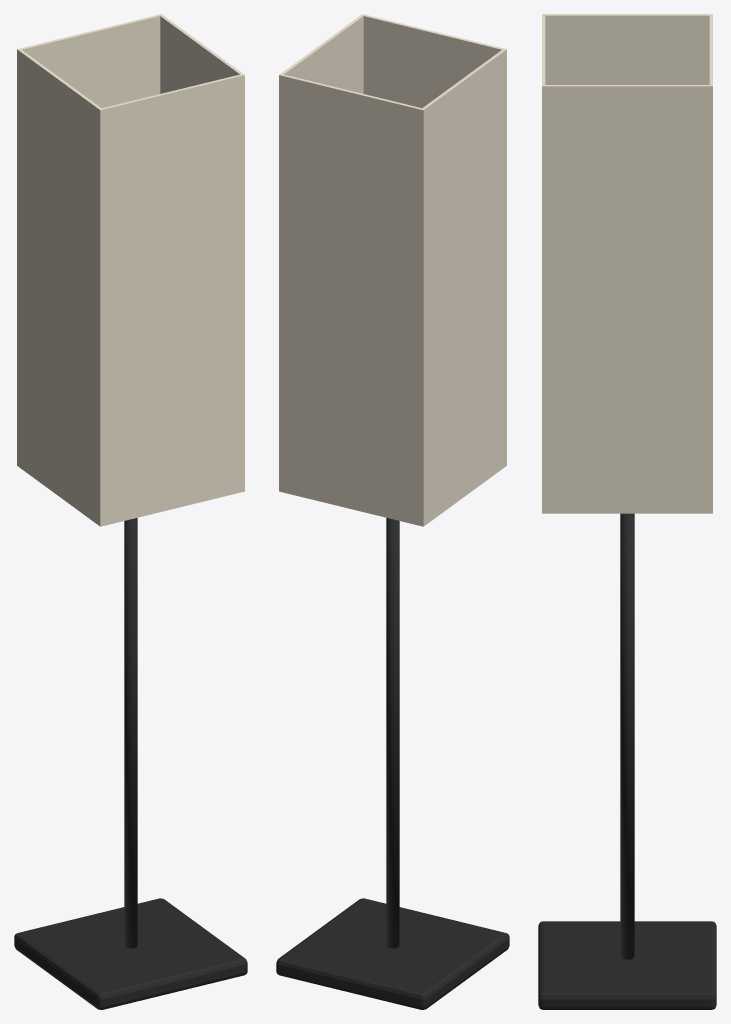
Rendered from floorLampSimple.glb.
3 views of the same model, side by side, from view 1: azimuth 30°, elevation 25°; view 2: azimuth 150°, elevation 25°; view 3: azimuth 270°, elevation 25° (orthographic). The views are drawn at different scales.
Visible parts, largest first — view 1: floorLampSimple; view 2: floorLampSimple; view 3: floorLampSimple.
Boxes of the visible parts, x1,y1,x2,y2 form: floorLampSimple: [14, 14, 247, 1009]; floorLampSimple: [276, 14, 509, 1009]; floorLampSimple: [538, 14, 716, 1009].
Bounding box in the file's own units: 0.28 × 1.6 × 0.28.
